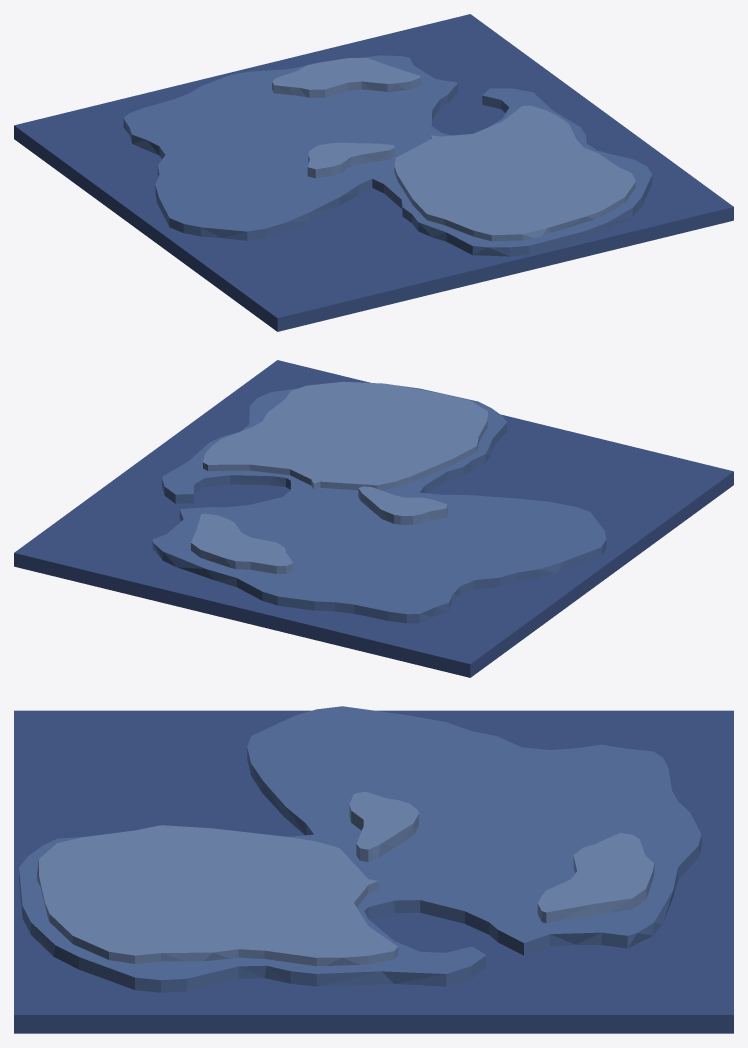
File: ground.fbx
The picture shows the model from 3 angles, top to bottom: view 1: azimuth 30°, elevation 25°; view 2: azimuth 150°, elevation 25°; view 3: azimuth 270°, elevation 25°; orthographic projection. The views are drawn at different scales.
Visible parts, largest first — view 1: ground_main, SP_Ground02_Mat, SP_Ground05_Mat, SP_Ground04_Mat, SP_Ground03_Mat; view 2: ground_main, SP_Ground02_Mat, SP_Ground05_Mat, SP_Ground04_Mat, SP_Ground03_Mat; view 3: ground_main, SP_Ground02_Mat, SP_Ground05_Mat, SP_Ground04_Mat, SP_Ground03_Mat.
Part boxes in pixels (x1,y1,x2,y2): ground_main: (14, 14, 733, 331); SP_Ground02_Mat: (123, 55, 652, 256); SP_Ground05_Mat: (394, 105, 635, 241); SP_Ground04_Mat: (272, 58, 420, 97); SP_Ground03_Mat: (307, 142, 394, 178); ground_main: (14, 360, 733, 677); SP_Ground02_Mat: (152, 385, 606, 623); SP_Ground05_Mat: (203, 381, 487, 490); SP_Ground04_Mat: (191, 513, 293, 573); SP_Ground03_Mat: (358, 486, 447, 524); ground_main: (14, 710, 733, 1033); SP_Ground02_Mat: (19, 706, 701, 992); SP_Ground05_Mat: (37, 825, 398, 966); SP_Ground04_Mat: (537, 833, 654, 923); SP_Ground03_Mat: (349, 791, 418, 861).
Bounding box in the file's own units: 34.19 × 2.29 × 34.19.
